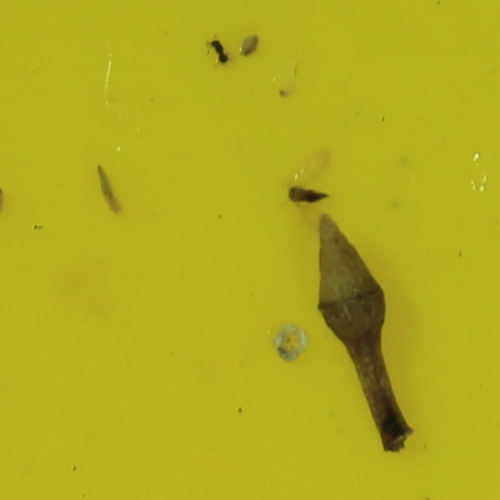psylla: (288, 187, 328, 203)
